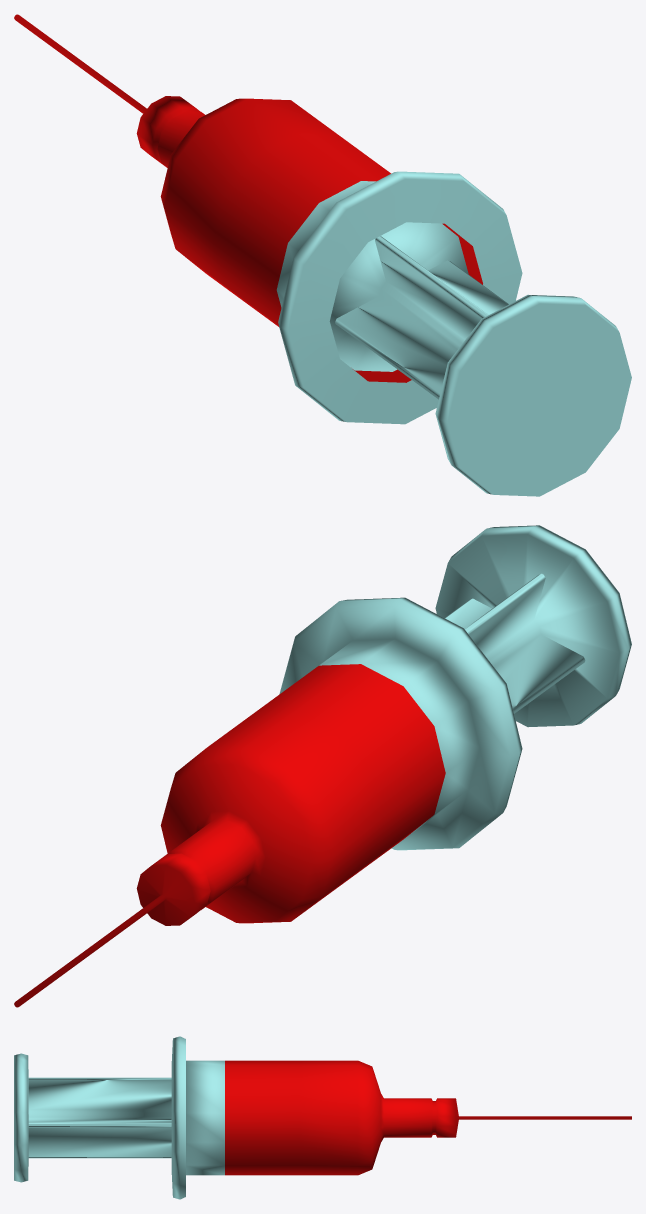
File: syringe.fbx
3 views of the same model, one above another, from view 1: azimuth 30°, elevation 25°; view 2: azimuth 150°, elevation 25°; view 3: azimuth 270°, elevation 25° (orthographic). The views are drawn at different scales.
Visible parts, largest first — view 1: free_injector_OBJ:null_, free_injector_OBJ:null_1; view 2: free_injector_OBJ:null_, free_injector_OBJ:null_1; view 3: free_injector_OBJ:null_, free_injector_OBJ:null_1.
Boxes of the visible parts, x1,y1,x2,y2 form: free_injector_OBJ:null_: (14,14,522,424); free_injector_OBJ:null_1: (329,222,631,496); free_injector_OBJ:null_: (14,597,522,1007); free_injector_OBJ:null_1: (435,525,631,727); free_injector_OBJ:null_: (171,1036,631,1199); free_injector_OBJ:null_1: (14,1053,171,1182).
Bounding box in the file's own units: 28.42 × 28.42 × 107.
